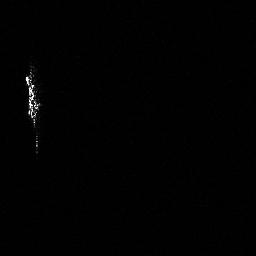ship: (22, 65, 45, 129)
